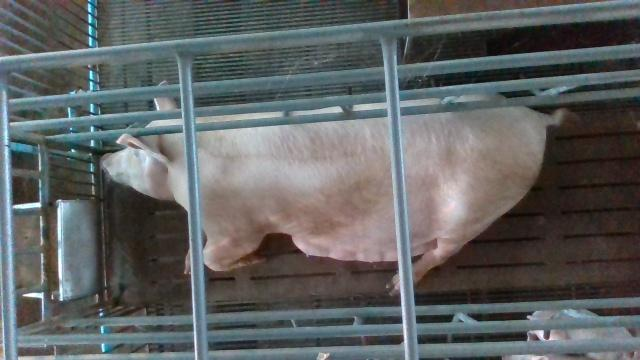piglet: (525, 308, 640, 360)
sow-sleep: (99, 79, 578, 295)
